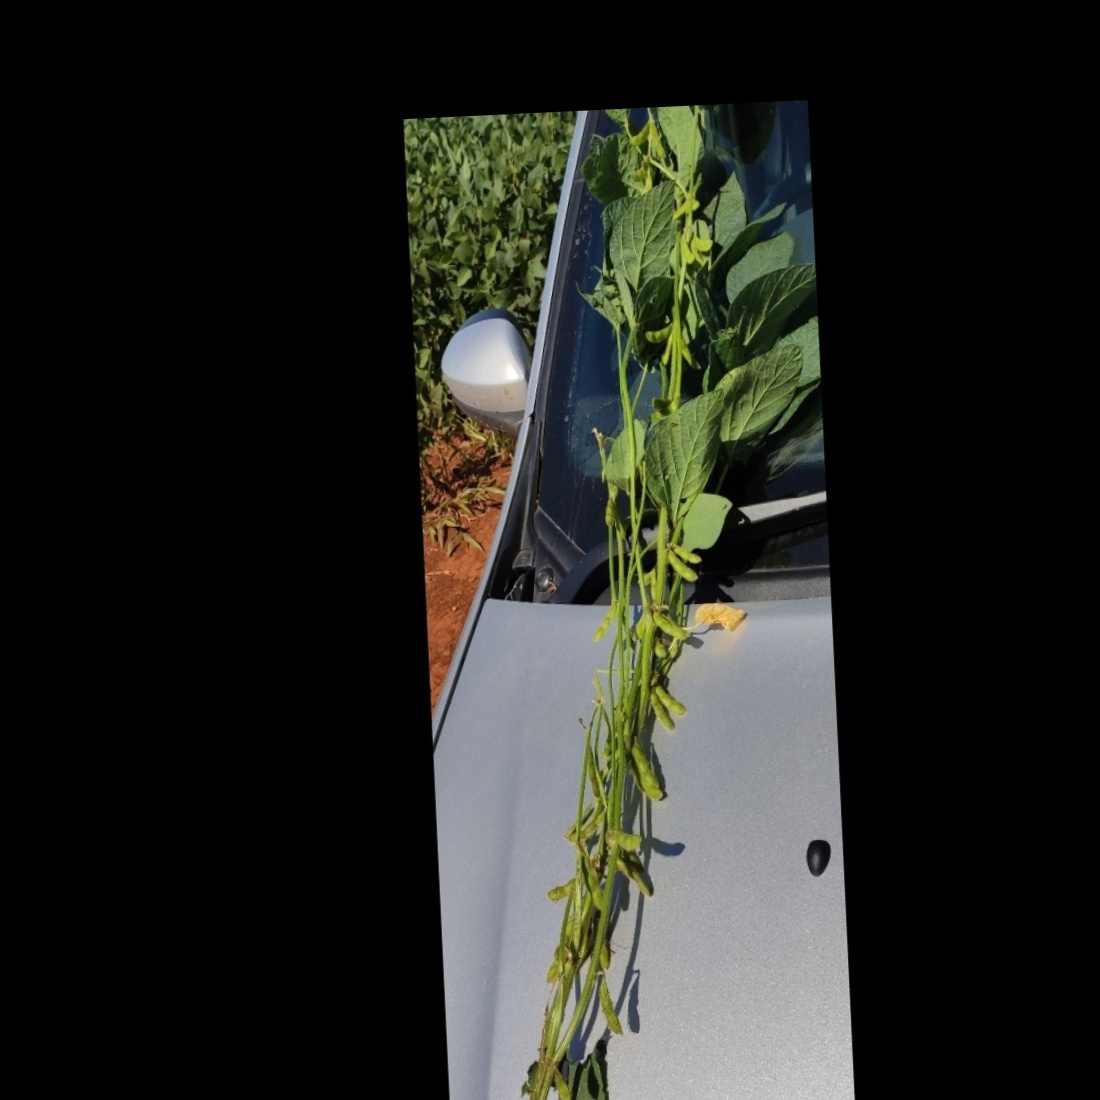pod: (587, 601, 625, 649), (595, 977, 623, 1041), (660, 546, 699, 587), (650, 680, 688, 719), (647, 685, 675, 736), (623, 112, 657, 147), (652, 609, 689, 642), (668, 540, 705, 570), (638, 320, 679, 345), (647, 119, 669, 162), (673, 229, 697, 265), (543, 874, 576, 901)
soy: (410, 28, 843, 1100)
